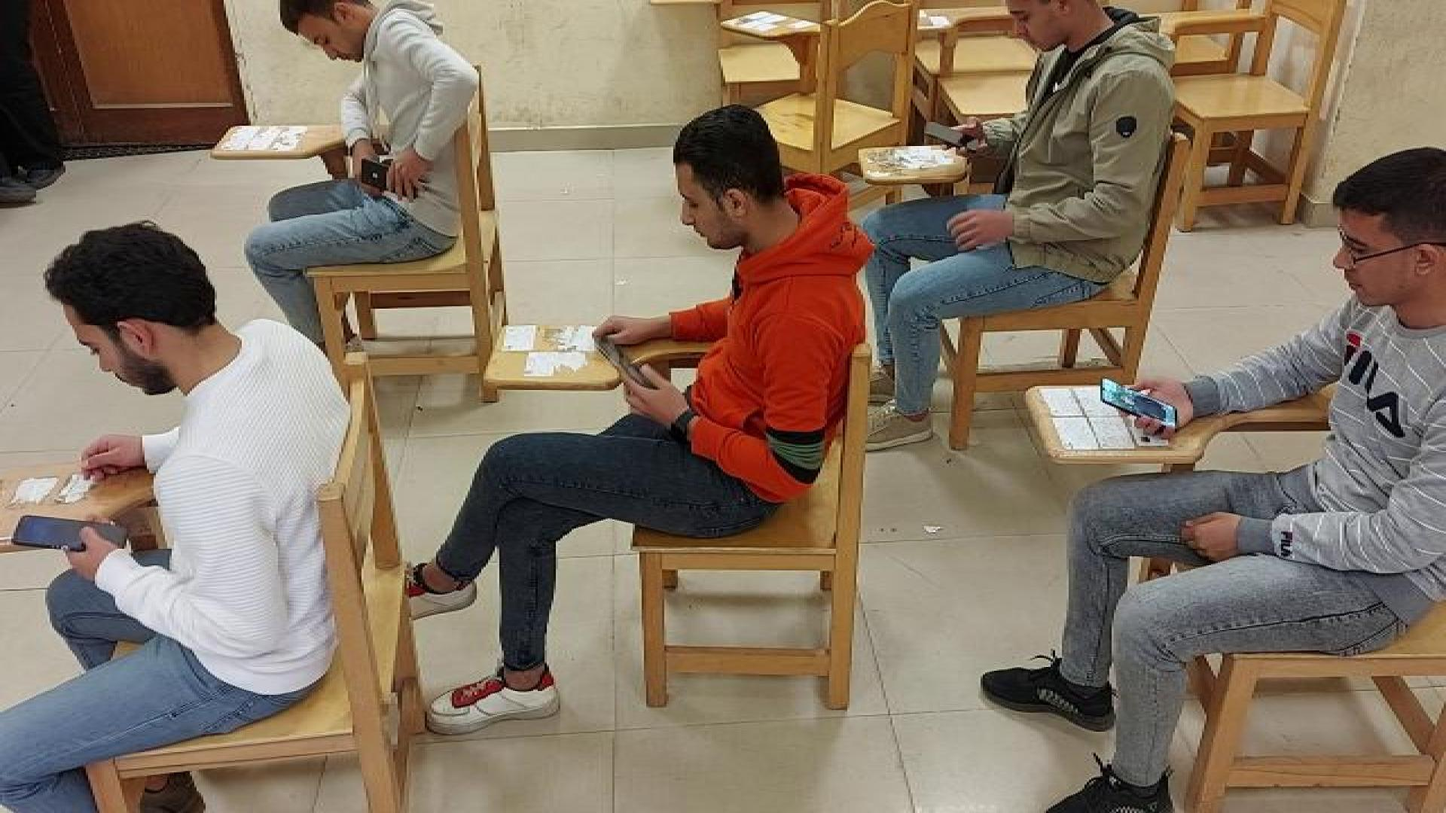phone: (11, 512, 129, 560), (1098, 375, 1182, 429), (592, 334, 655, 400), (921, 118, 984, 156), (357, 157, 416, 194)
